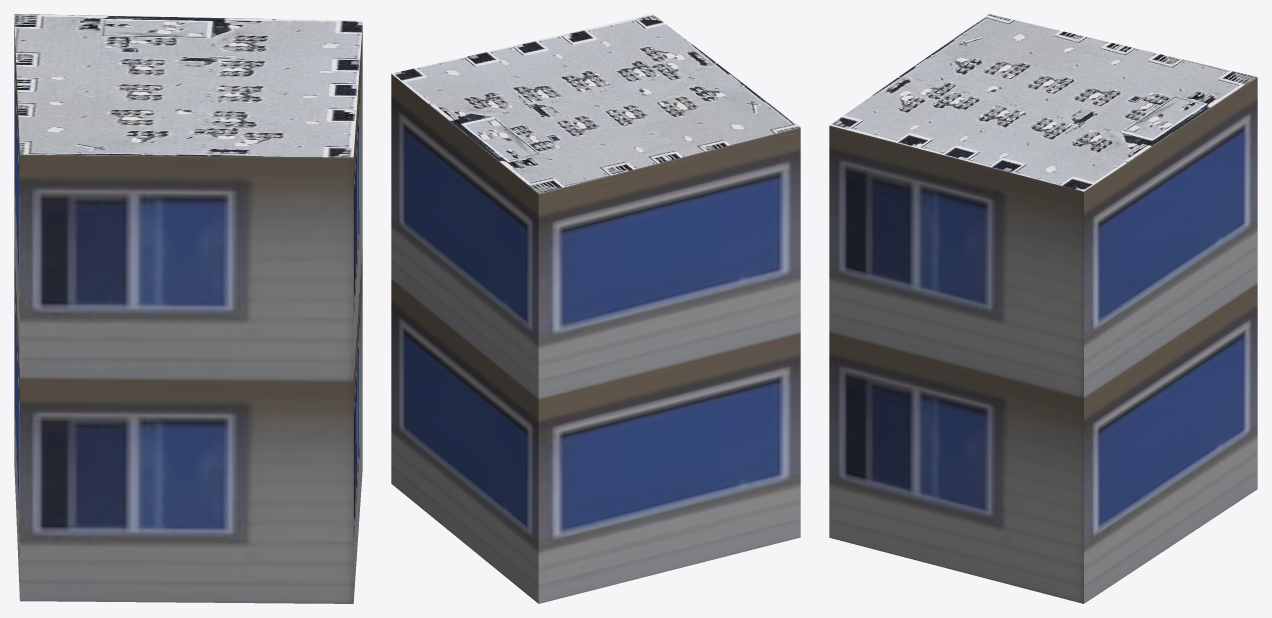
Rendered from ResTex__3639.fbx.
3 renders of one model, left to right at view 1: azimuth 30°, elevation 25°; view 2: azimuth 150°, elevation 25°; view 3: azimuth 270°, elevation 25°, orthographic. The views are drawn at different scales.
Parts seen in each view (by area): view 1: CityEngineMaterial_23_m, CityEngineMaterial_4_m; view 2: CityEngineMaterial_23_m, CityEngineMaterial_4_m; view 3: CityEngineMaterial_23_m, CityEngineMaterial_4_m.
Part boxes in pixels (bbox=[...]): CityEngineMaterial_23_m: bbox=[14, 22, 362, 603]; CityEngineMaterial_4_m: bbox=[14, 14, 362, 157]; CityEngineMaterial_23_m: bbox=[391, 74, 800, 603]; CityEngineMaterial_4_m: bbox=[392, 14, 800, 193]; CityEngineMaterial_23_m: bbox=[829, 77, 1257, 603]; CityEngineMaterial_4_m: bbox=[830, 14, 1256, 191].
Bounding box in the file's own units: 5.54 × 6 × 5.65.
2 materials, 2 textured.
